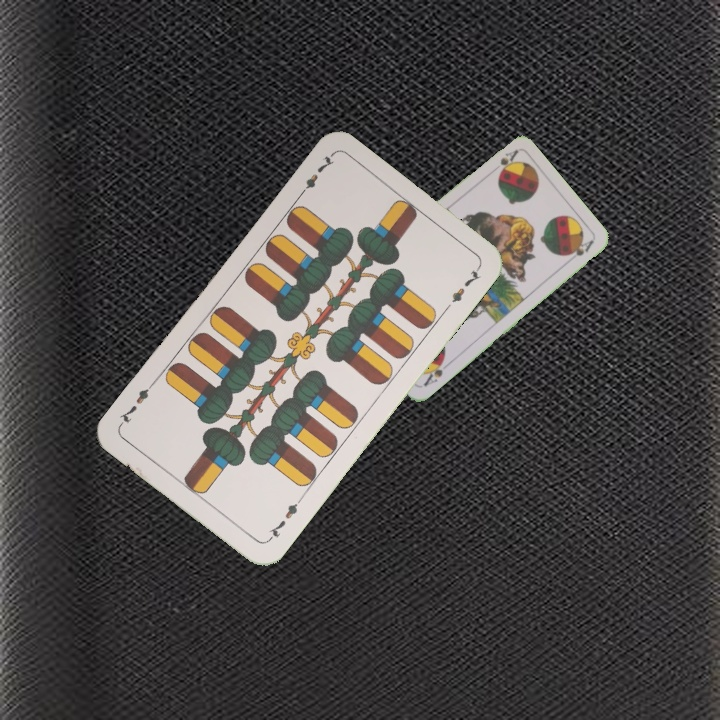E7: (294, 150, 337, 201), (263, 494, 305, 544)
SA: (420, 355, 452, 389), (495, 146, 520, 174)
